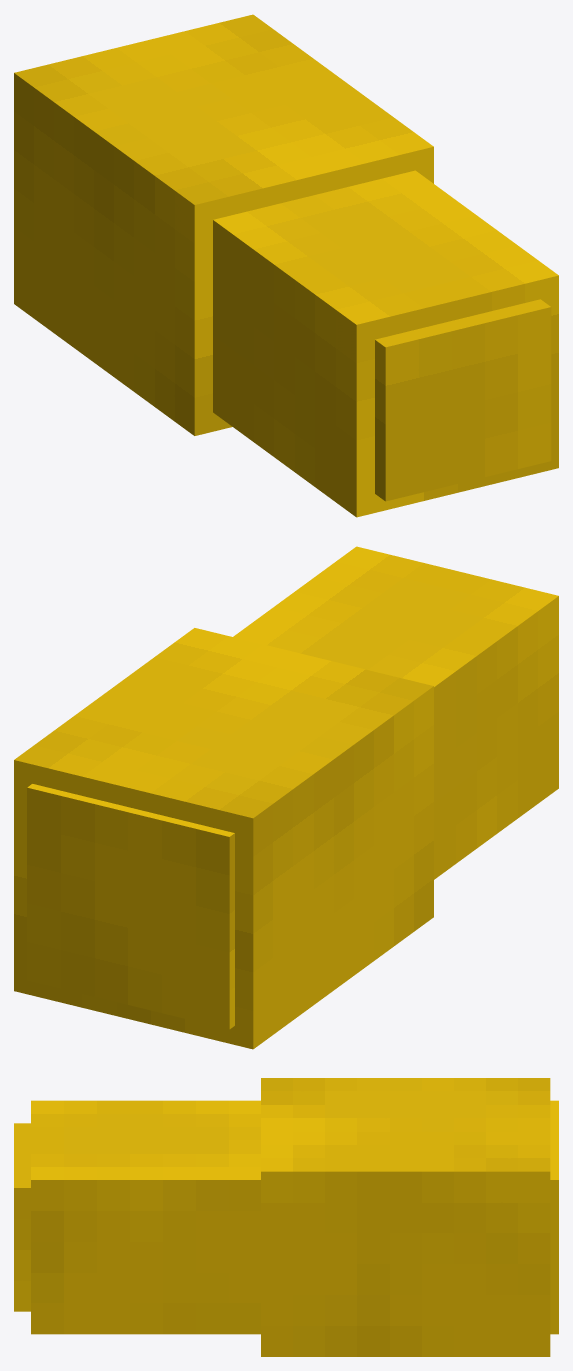
Rendered from motor.obj.
The picture shows the model from 3 angles, top to bottom: view 1: azimuth 30°, elevation 25°; view 2: azimuth 150°, elevation 25°; view 3: azimuth 270°, elevation 25°; orthographic projection. The views are drawn at different scales.
Visible parts, largest first — view 1: cuboid; view 2: cuboid; view 3: cuboid.
Boxes of the visible parts, bbox=[...] form: cuboid: bbox=[14, 14, 558, 517]; cuboid: bbox=[14, 546, 558, 1049]; cuboid: bbox=[14, 1078, 558, 1356].
Size of the model in its own units: 0.4062 by 0.375 by 1.
Materials: 1 (1 with a texture image).
